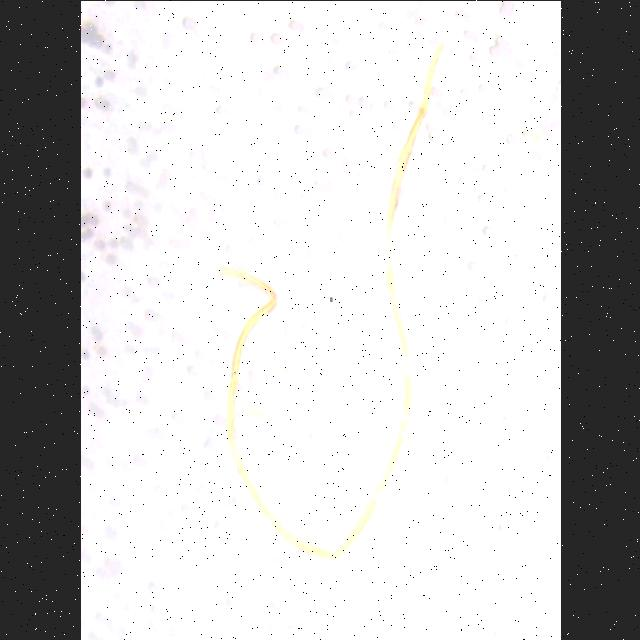Fibre: (216, 38, 444, 560)
